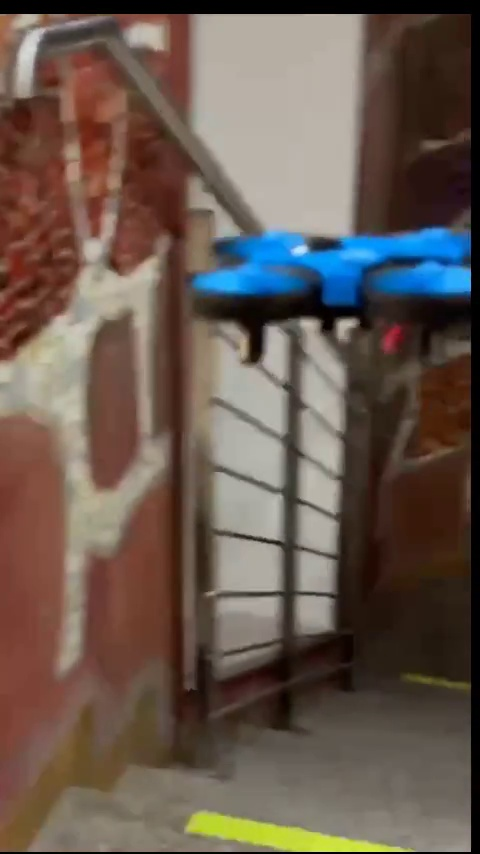drone: (192, 231, 474, 368)
